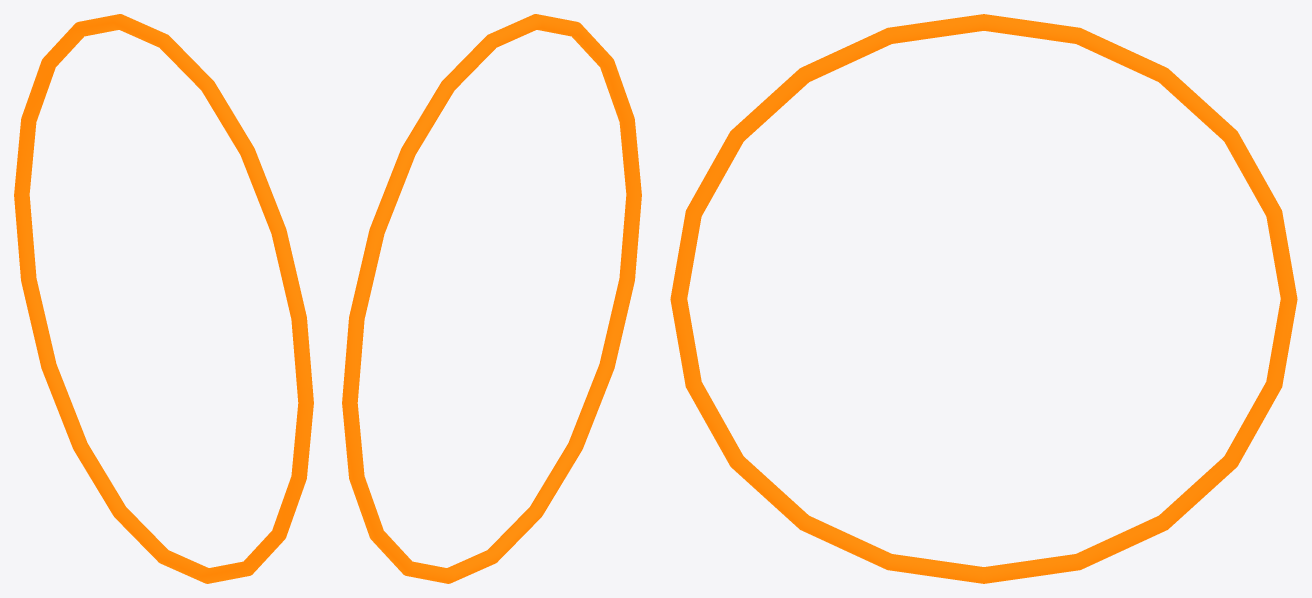
Rendered from timeRing.fbx.
The picture shows the model from 3 angles, left to right: view 1: azimuth 30°, elevation 25°; view 2: azimuth 150°, elevation 25°; view 3: azimuth 270°, elevation 25°; orthographic projection. The views are drawn at different scales.
Parts seen in each view (by area): view 1: timeRing; view 2: timeRing; view 3: timeRing.
Part boxes in pixels (x1,y1,x2,y2): timeRing: (14,14,313,583); timeRing: (342,14,641,583); timeRing: (670,14,1297,583).
Size of the model in its own units: 0.1988 by 7.43 by 7.43.
